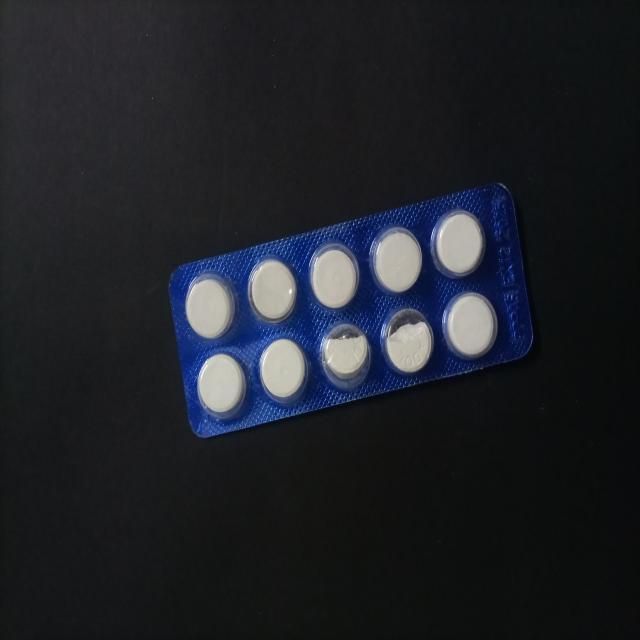defect: (378, 304, 436, 380), (317, 317, 373, 392)
